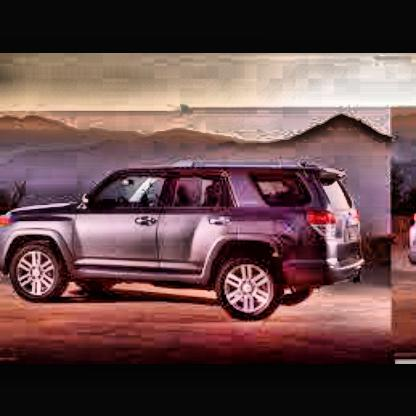Toyota 4Runner SUV 2012: (6, 157, 375, 327)
